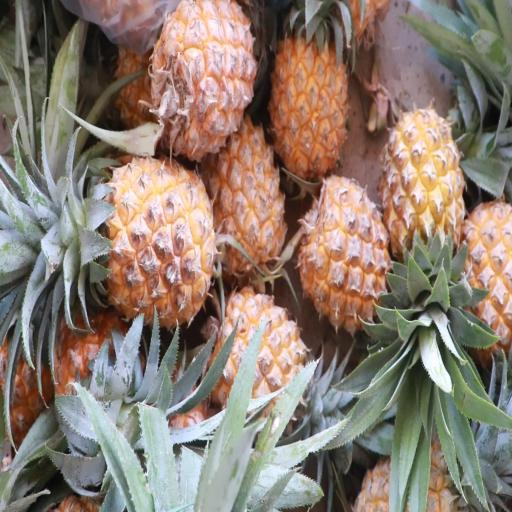Pineapple - v8 v1: (47, 148, 218, 326), (203, 279, 318, 436), (150, 1, 259, 164), (295, 171, 398, 340), (381, 103, 469, 300), (267, 4, 349, 188), (207, 102, 288, 279)
